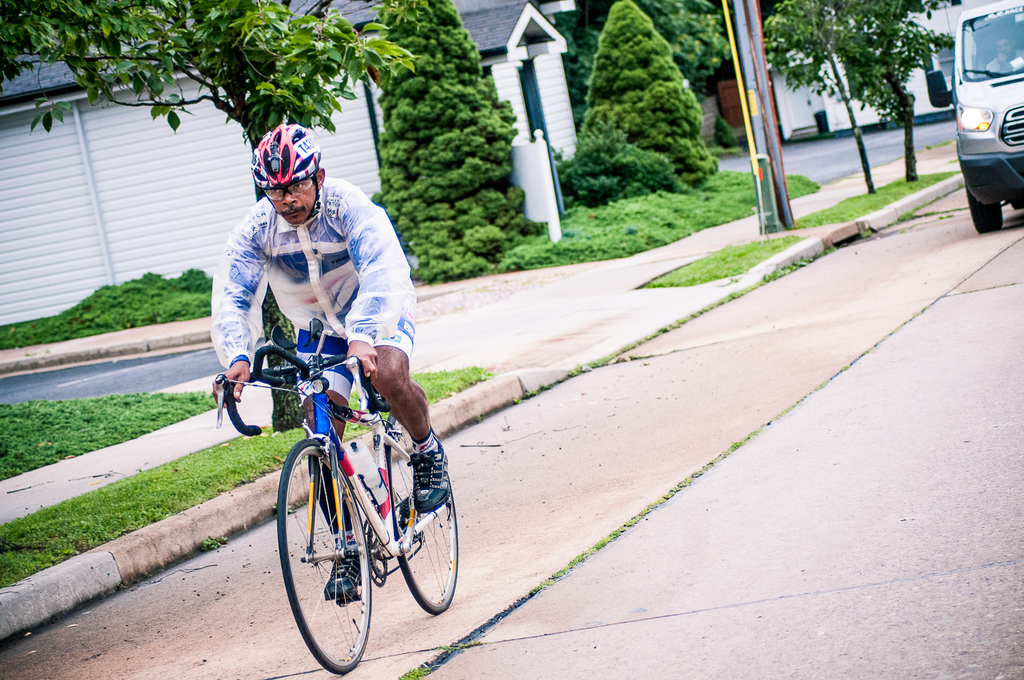Bike: (189, 348, 484, 659)
